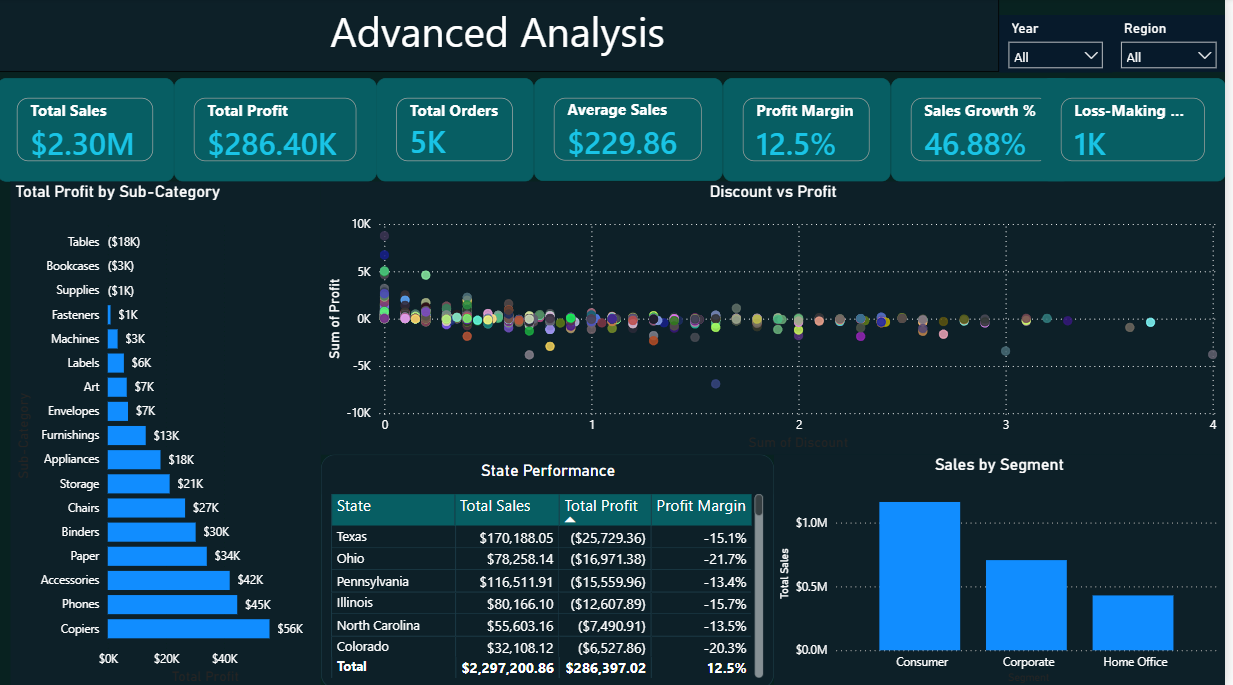

The dashboard page shown, as its layout file describes it:
{"tool":"powerbi","page":{"name":"Advanced Analysis","canvas":[1280,720],"ordinal":2},"visuals":[{"type":"cardVisual","fields":{"Data":["Sample - Superstore.Total Sales"]},"box":[0,84.3,184.5,108.2],"z":0},{"type":"cardVisual","fields":{"Data":["Sample - Superstore.Total Profit"]},"box":[184.5,84.3,211.6,108.2],"z":1000},{"type":"cardVisual","fields":{"Data":["Sample - Superstore.Total Orders"]},"box":[396.1,84.3,163.8,108.2],"z":2000},{"type":"cardVisual","fields":{"Data":["Sample - Superstore.Average Sales"]},"box":[559.9,84.3,196.6,107.4],"z":3000},{"type":"cardVisual","fields":{"Data":["Sample - Superstore.Profit Margin"]},"box":[757.1,84.3,175,108.2],"z":4000},{"type":"cardVisual","fields":{"Data":["Sample - Superstore.Sales Growth %"]},"box":[932.1,84.3,187.7,108.2],"z":6000},{"type":"cardVisual","fields":{"Data":["Sample - Superstore.Loss-Making Orders"]},"box":[1088,84.3,192.5,108.2],"z":7000},{"type":"slicer","fields":{"Values":["Sample - Superstore.Region"]},"box":[1161.1,19.1,119.4,59.1],"z":8000},{"type":"slicer","title":"Year","fields":{"Values":["Dates.Year"]},"box":[1043.4,19.1,118.2,60.3],"z":9000},{"type":"clusteredBarChart","fields":{"Category":["Sample - Superstore.Sub-Category"],"Y":["Sample - Superstore.Total Profit"]},"box":[14.1,192.2,323.5,528.3],"z":10000},{"type":"scatterChart","title":"Discount vs Profit","fields":{"X":["Sum(Sample - Superstore.Discount)"],"Y":["Sum(Sample - Superstore.Profit)"],"Series":["Sample - Superstore.Order ID"]},"box":[337.6,192.2,942.5,284.5],"z":10001},{"type":"pivotTable","title":"State Performance","fields":{"Rows":["Sample - Superstore.State"],"Values":["Sample - Superstore.Total Sales","Sample - Superstore.Total Profit","Sample - Superstore.Profit Margin"]},"box":[337.6,476.7,472,243.8],"z":10002},{"type":"clusteredColumnChart","title":"Sales by Segment","fields":{"Y":["Sample - Superstore.Total Sales"],"Category":["Sample - Superstore.Segment"]},"box":[810,477,470,243],"z":10003},{"type":"textbox","box":[0,0,1044.1,78.1],"z":10004}]}

Visuals, with their boxes in screenshot pixels (x1, y1, x2, y2), scaled from the page's 1280x720 canvas onto the 1233x685 screenshot:
cardVisual - Sample - Superstore.Total Sales: <box>0,80,178,183</box>
cardVisual - Sample - Superstore.Total Profit: <box>178,80,382,183</box>
cardVisual - Sample - Superstore.Total Orders: <box>382,80,539,183</box>
cardVisual - Sample - Superstore.Average Sales: <box>539,80,729,182</box>
cardVisual - Sample - Superstore.Profit Margin: <box>729,80,898,183</box>
cardVisual - Sample - Superstore.Sales Growth %: <box>898,80,1079,183</box>
cardVisual - Sample - Superstore.Loss-Making Orders: <box>1048,80,1232,183</box>
slicer - Sample - Superstore.Region: <box>1118,18,1232,74</box>
"Year" slicer: <box>1005,18,1119,76</box>
clusteredBarChart - Sample - Superstore.Sub-Category x Sample - Superstore.Total Profit: <box>14,183,325,684</box>
"Discount vs Profit" scatterChart: <box>325,183,1232,454</box>
"State Performance" pivotTable: <box>325,454,780,684</box>
"Sales by Segment" clusteredColumnChart: <box>780,454,1232,684</box>
textbox: <box>0,0,1006,74</box>
